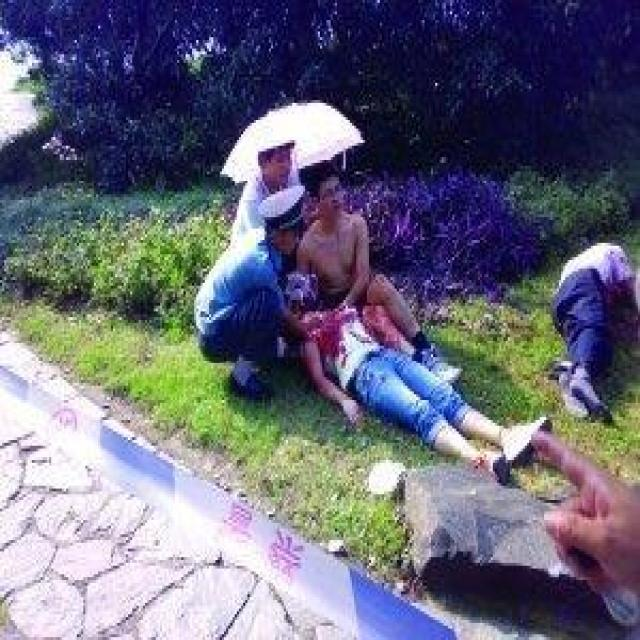fall: (289, 267, 549, 488), (529, 220, 640, 423)
nonfall: (188, 186, 310, 394), (304, 157, 436, 336)
